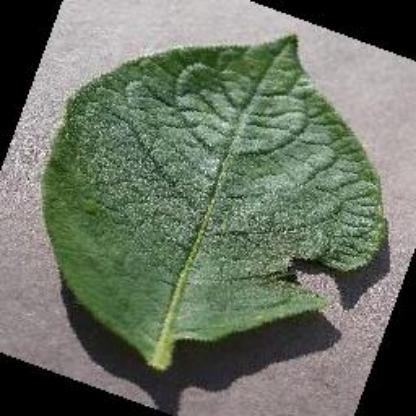Healthy-plant: (35, 38, 401, 374)
